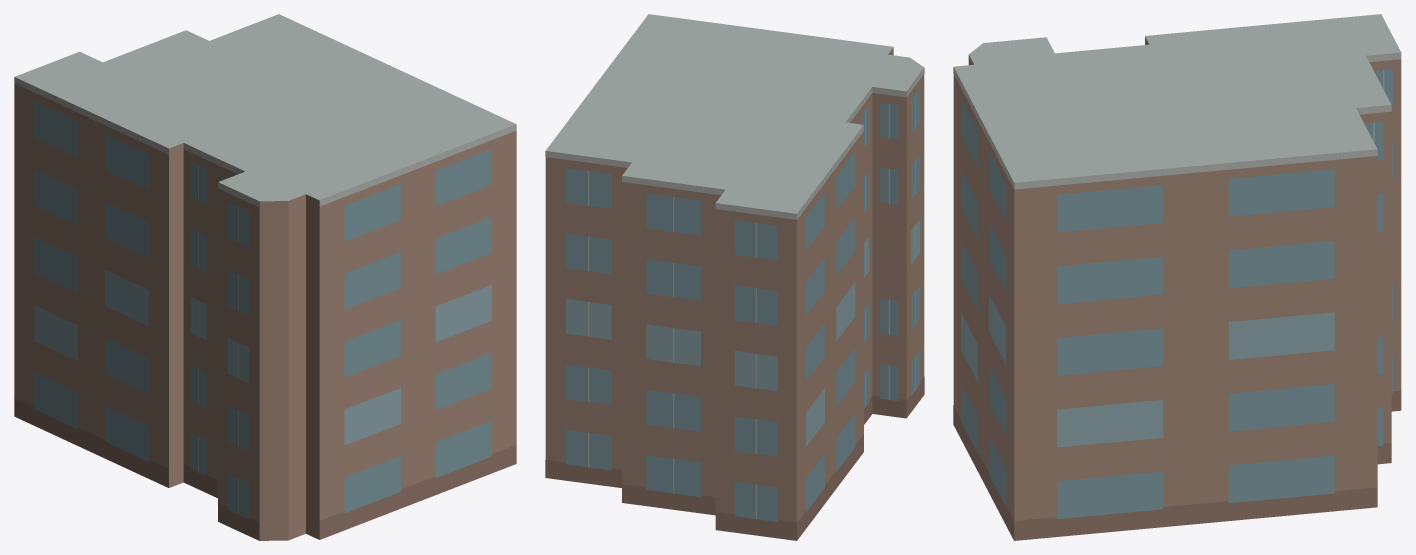
Rendered from survey-upis-32610101.glb.
3 views of the same model, side by side, from view 1: azimuth 30°, elevation 25°; view 2: azimuth 150°, elevation 25°; view 3: azimuth 270°, elevation 25° (orthographic). The views are drawn at different scales.
Visible parts, largest first — view 1: survey-upis-32610101.tmp; view 2: survey-upis-32610101.tmp; view 3: survey-upis-32610101.tmp.
Boxes of the visible parts, <box> form: survey-upis-32610101.tmp: <box>14,14,516,540</box>; survey-upis-32610101.tmp: <box>545,14,924,540</box>; survey-upis-32610101.tmp: <box>953,14,1401,540</box>.
Bounding box in the file's own units: 13.26 × 13.1 × 14.86.
